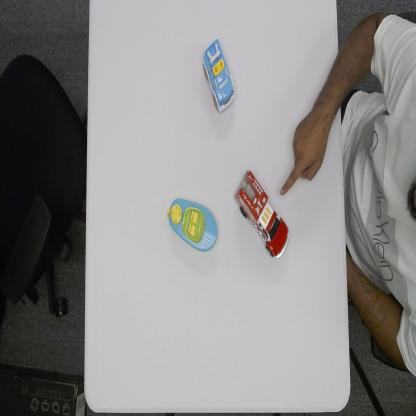Arm: (315, 47, 340, 132)
Boat: (165, 195, 219, 254)
Car: (200, 37, 237, 114)
Firetruck: (232, 169, 290, 261)
Hand: (280, 108, 328, 196)
